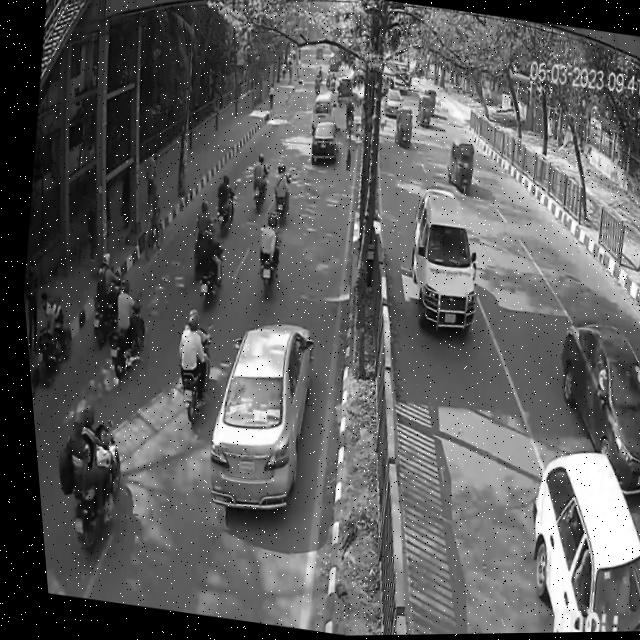cng: (436, 128, 481, 200), (388, 99, 418, 152), (412, 95, 433, 133)
